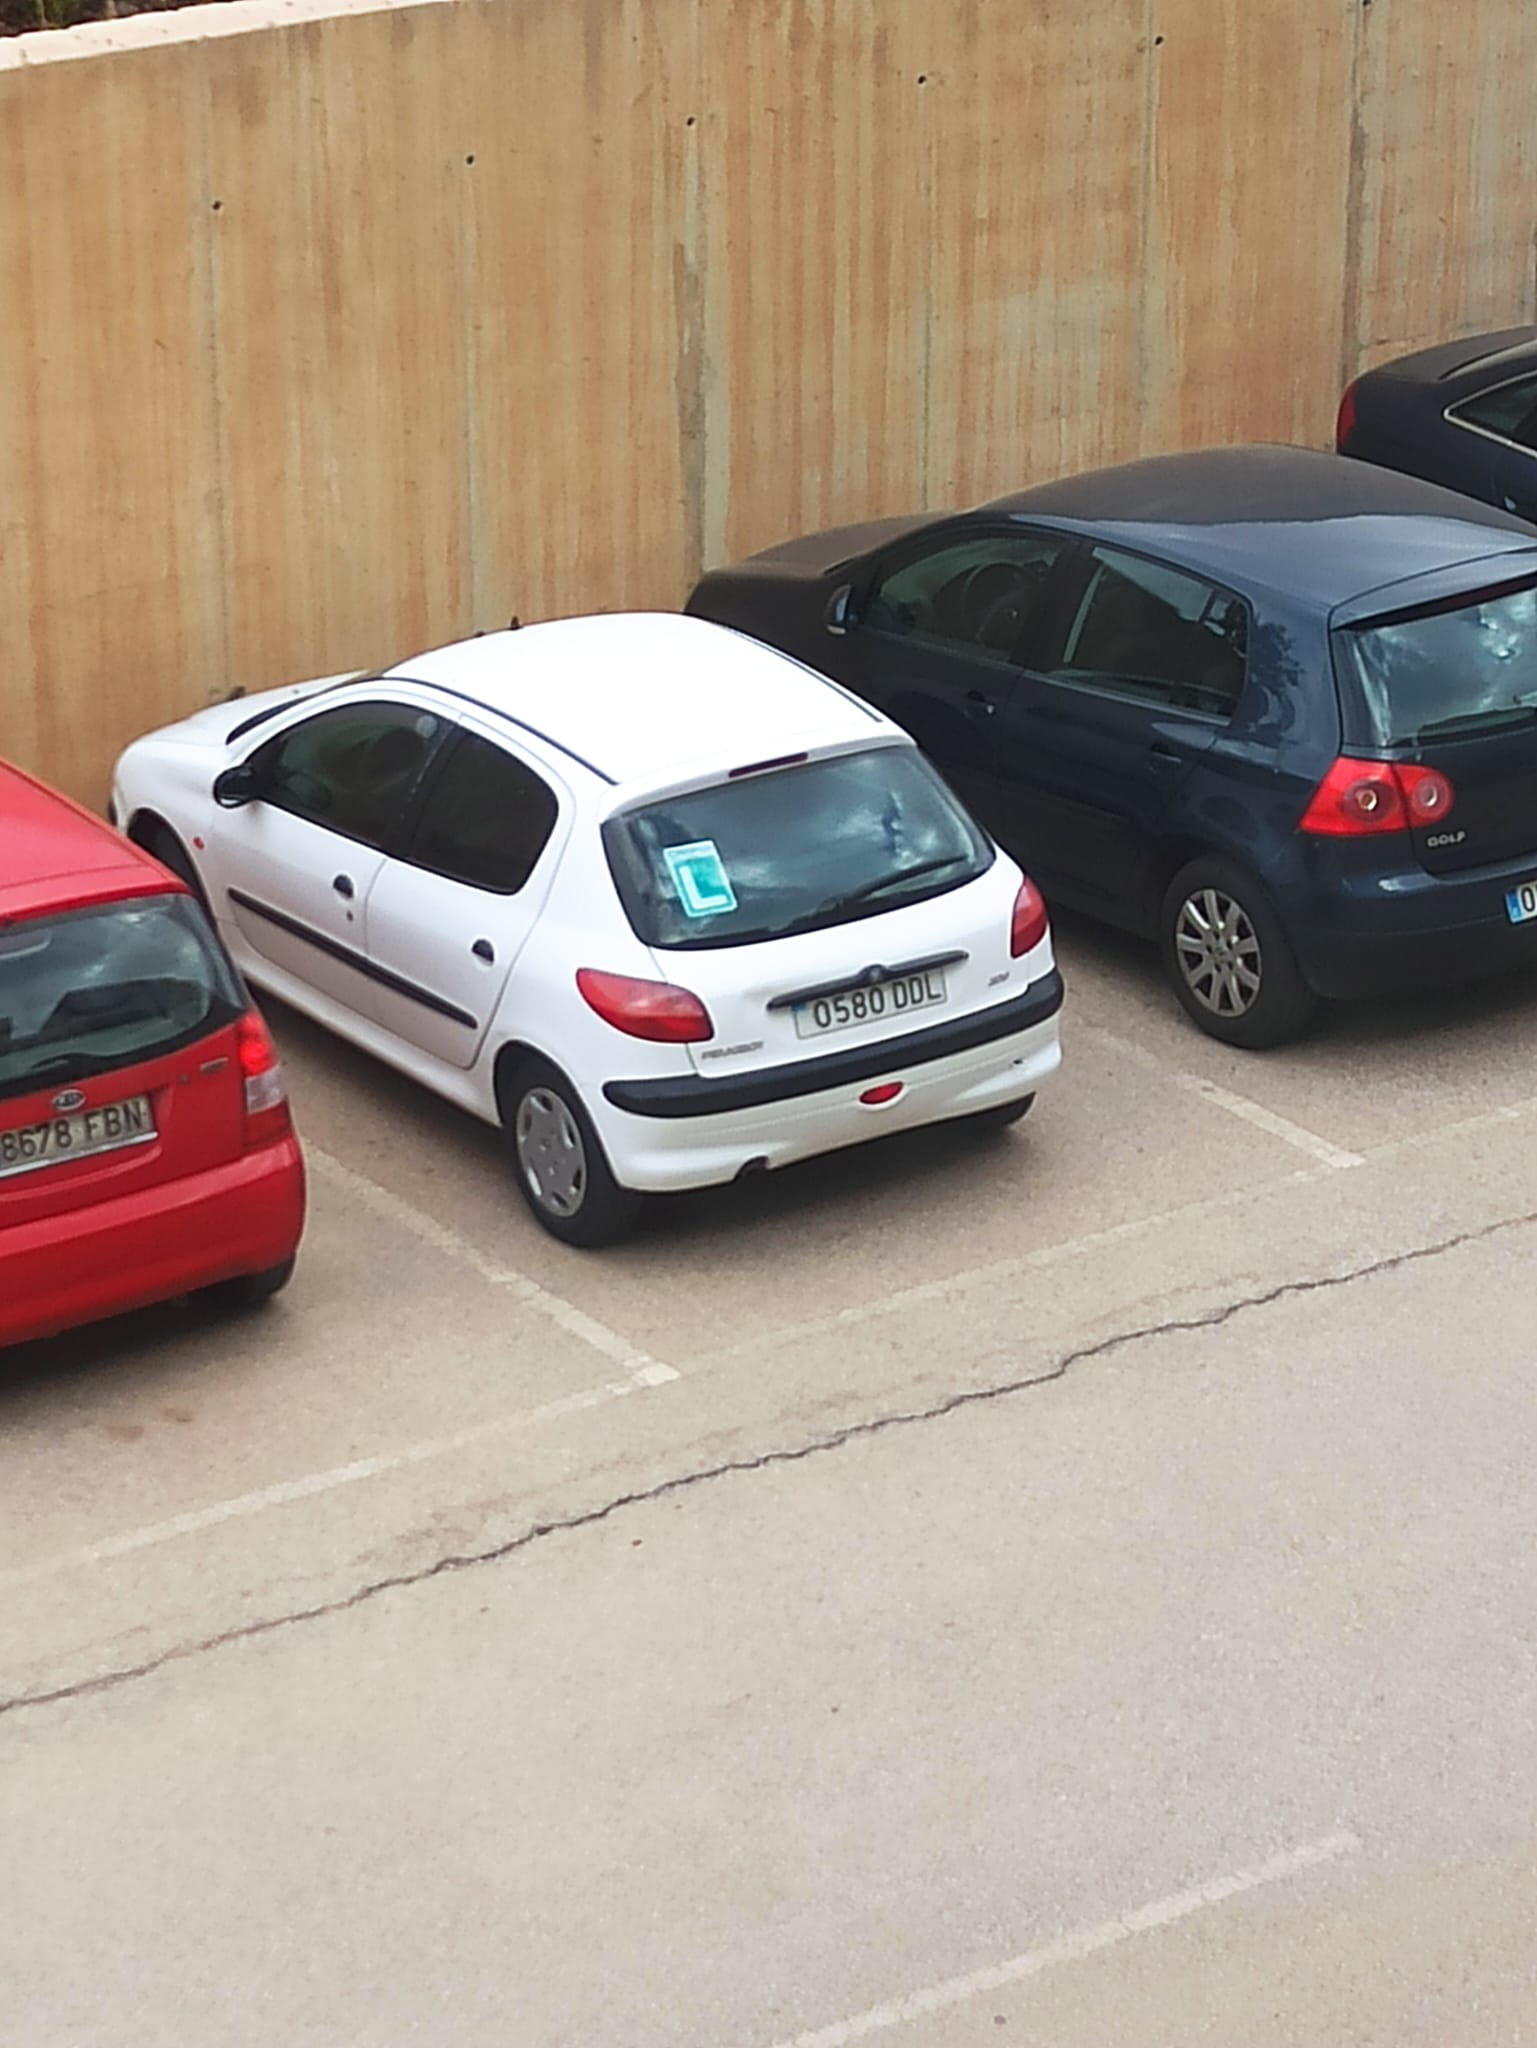car: (110, 604, 1070, 1256), (693, 420, 1527, 1036), (8, 744, 315, 1422), (1334, 320, 1535, 510)
